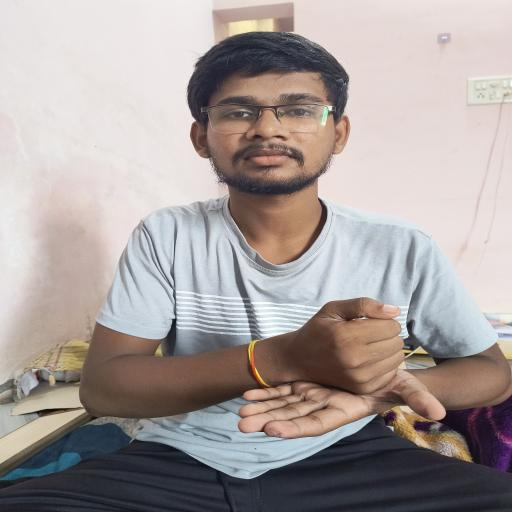Next: (234, 281, 451, 461)
